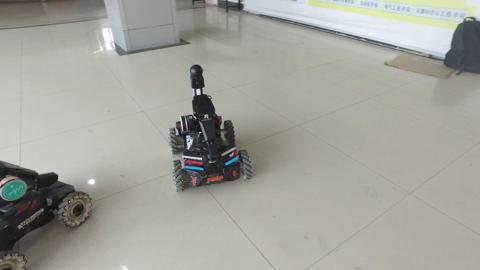chariot: (162, 62, 256, 193)
